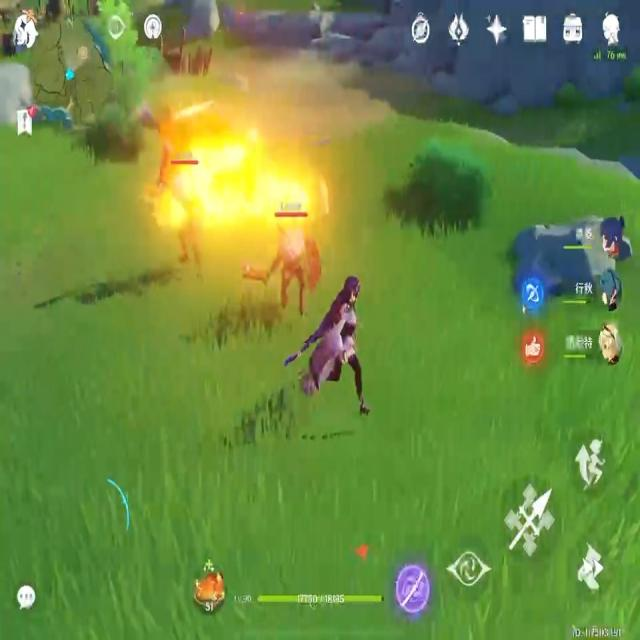genshin-hilichurls: (260, 212, 321, 318)
